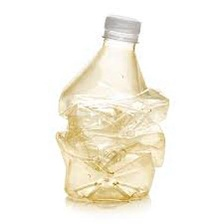bottle: (49, 9, 178, 215)
